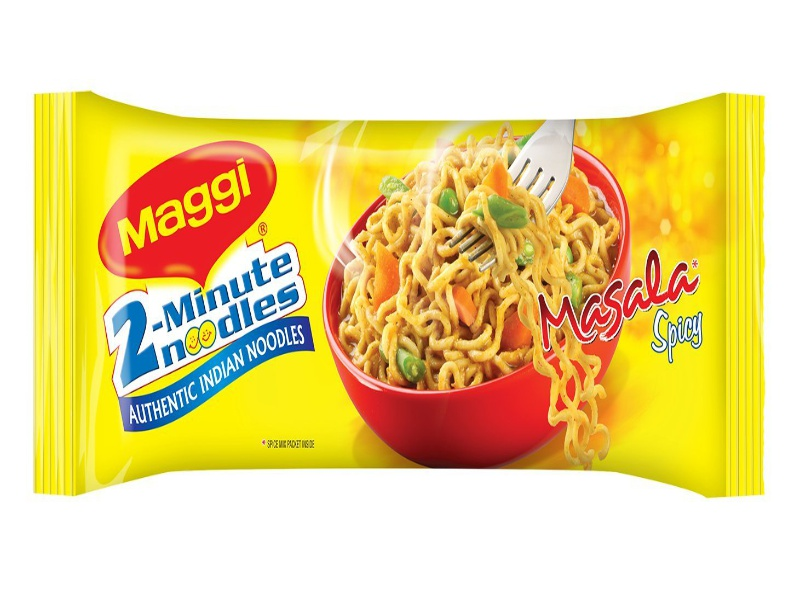maggi: (17, 73, 783, 519)
